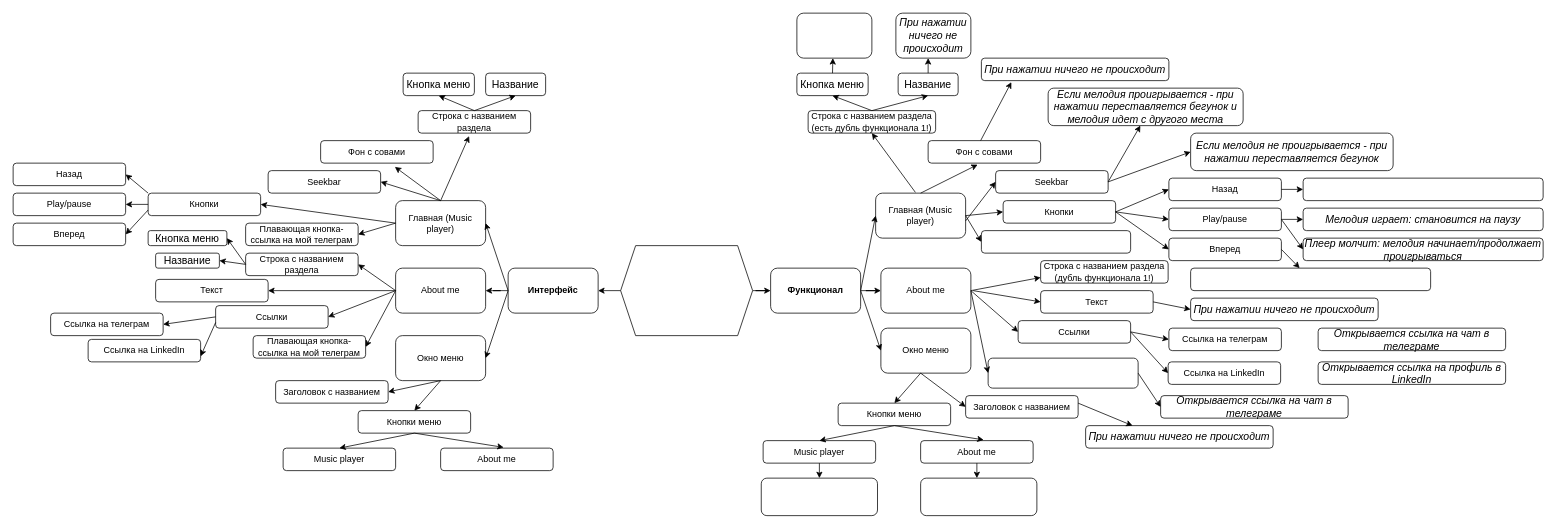
This 1556x529 diagram has some shape labels left out. The centre of each missing label's shape, as x and y in pixels:
OwlPlayer https://github.com/psy-programmer/OwlPlayer: (686,290)
Открывается страница "Обо мне": (978,496)
Открывается страница аудиоплеера: (819,496)
Переключение на предыдущую композицию: (1422,189)
Переключение на следующую композицию: (1310,279)
Плавающая кнопка-ссылка на мой телеграм (дубль фунционала 2!): (1056,241)
Плавающая кнопка-ссылка на мой телеграм (есть дубль функционала 2!): (1062,372)
При нажатии открывается панель меню: (834,35)
